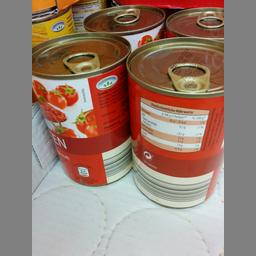tomato_sauce: (124, 36, 222, 210), (32, 30, 130, 188)
